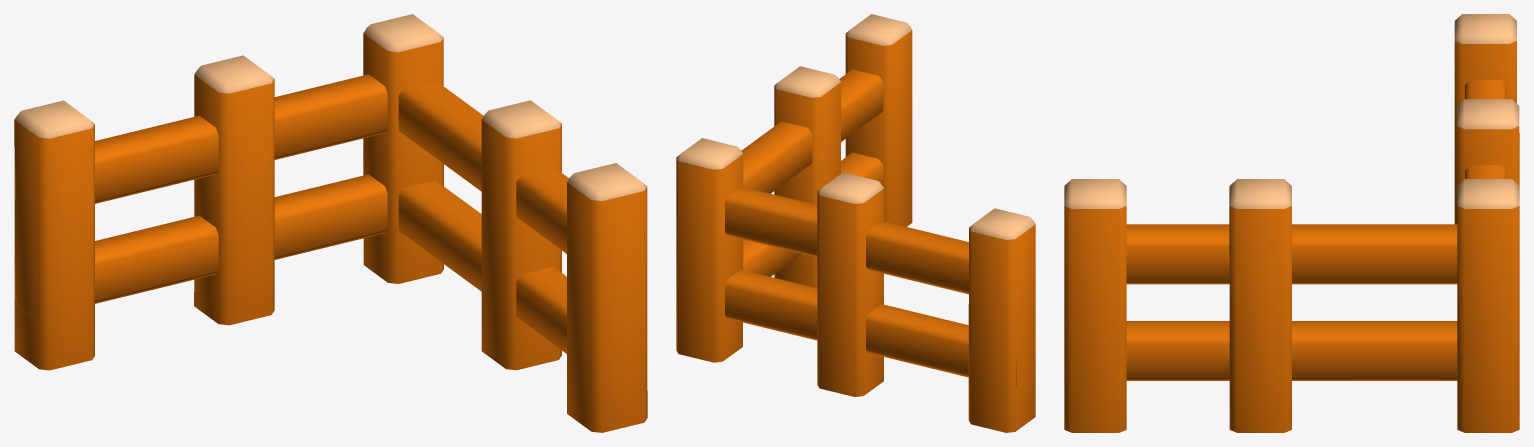
Rendered from Farm_Fence_C_02.glb.
3 renders of one model, left to right at view 1: azimuth 30°, elevation 25°; view 2: azimuth 150°, elevation 25°; view 3: azimuth 270°, elevation 25°, orthographic. The views are drawn at different scales.
Visible parts, largest first — view 1: Farm_Fence_C_02; view 2: Farm_Fence_C_02; view 3: Farm_Fence_C_02.
Part boxes in pixels (<box>): Farm_Fence_C_02: <box>14,14,647,432</box>; Farm_Fence_C_02: <box>676,14,1035,432</box>; Farm_Fence_C_02: <box>1064,14,1519,432</box>.
Bounding box in the file's own units: 1.78 × 1 × 1.79.
Materials: 1 (1 with a texture image).
